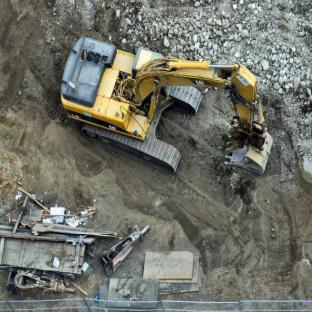ExcavationMachinery: (52, 20, 289, 195)
